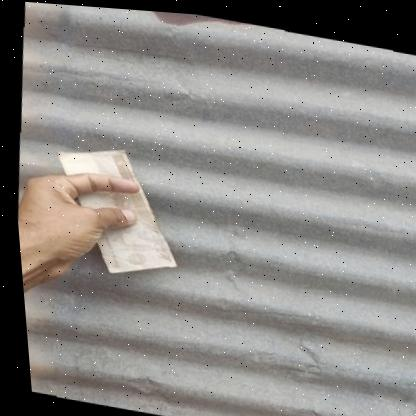five-back-vef: (40, 135, 185, 282)
